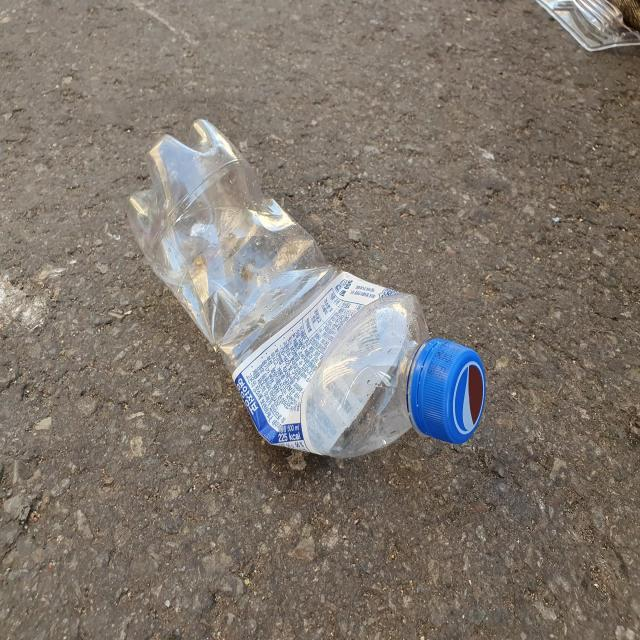plastic: (127, 119, 486, 458)
